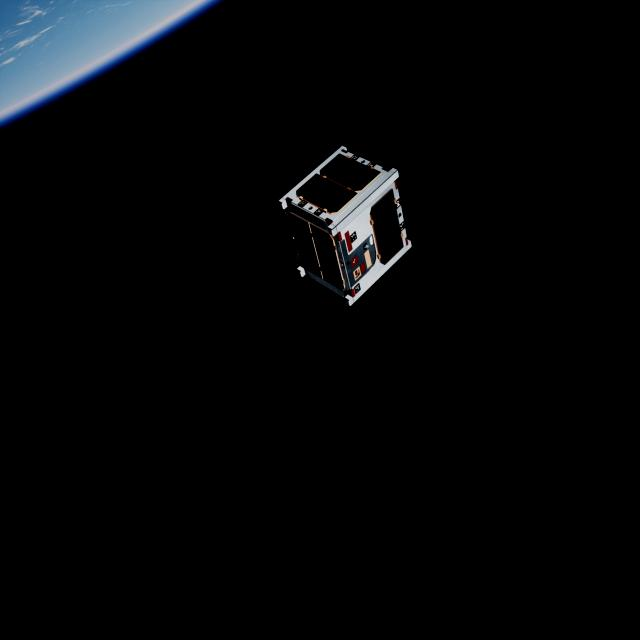satellite: (275, 138, 413, 314)
